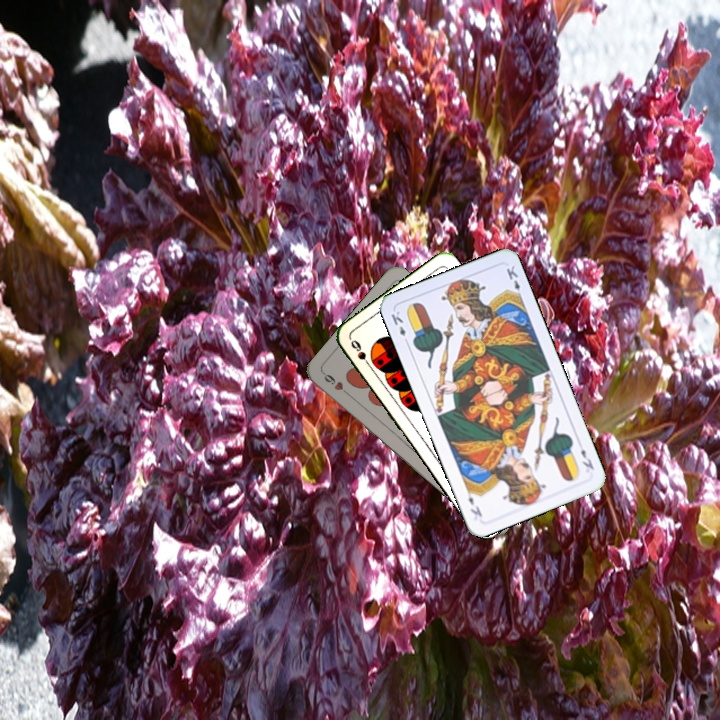EK: (387, 307, 411, 347), (577, 445, 597, 472)
H9: (319, 369, 353, 399)
S9: (346, 335, 375, 372)
